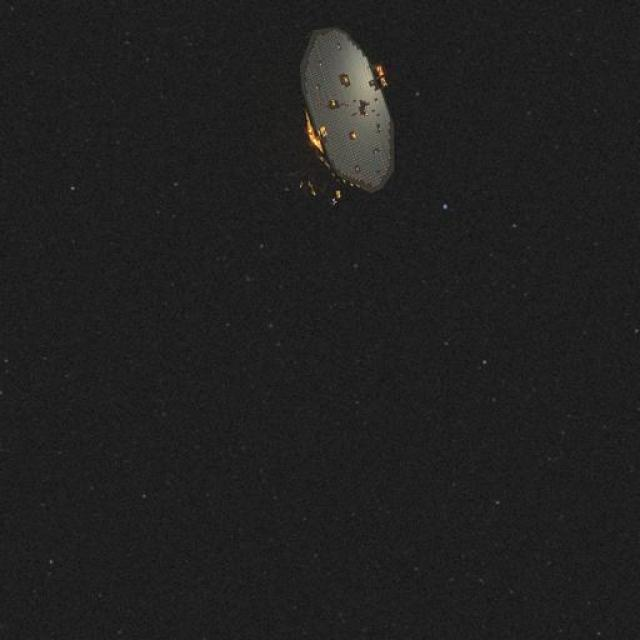lisa_pathfinder: (249, 13, 449, 257)
